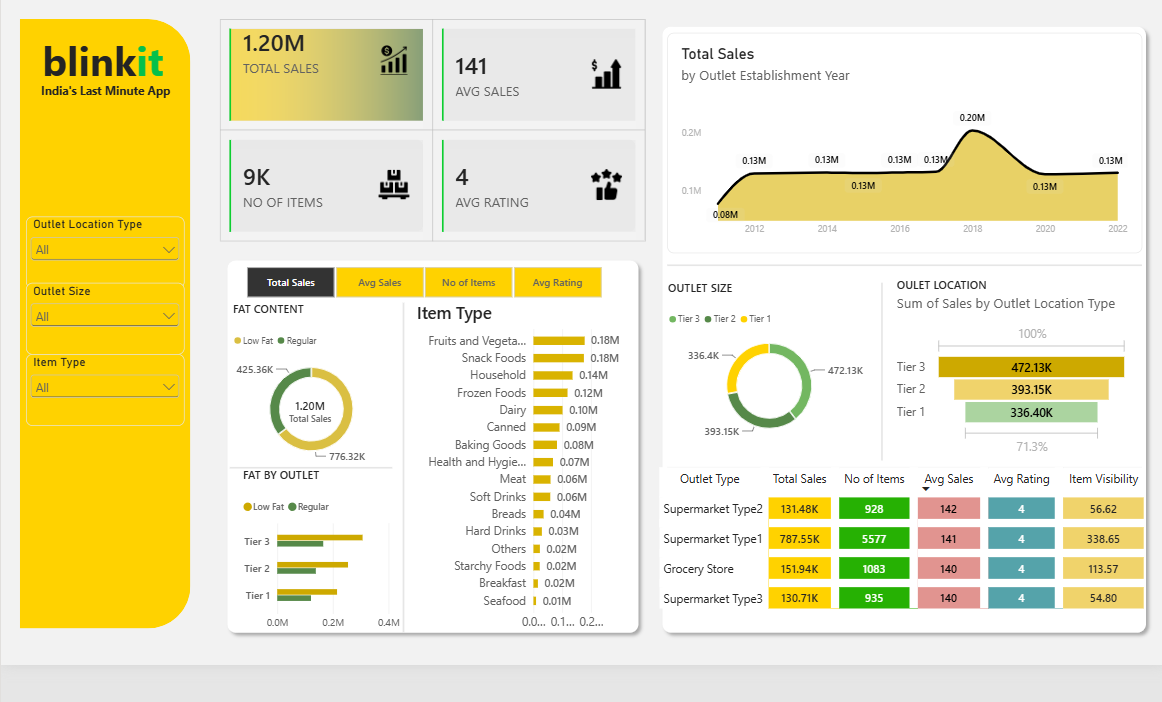

What the dashboard file says about the page in this screenshot:
{"tool":"powerbi","page":{"name":"Page 1","canvas":[1400,800],"ordinal":0},"visuals":[{"type":"shape","box":[22.5,24,205.1,731.9],"z":0},{"type":"textbox","box":[49.5,40.5,279.2,76.5],"z":1000},{"type":"textbox","box":[48,100.6,280.7,33],"z":2000},{"type":"cardVisual","fields":{"Data":["BlinkIT Grocery Data.Total Sales","BlinkIT Grocery Data.Avg Sales","BlinkIT Grocery Data.No of Items","BlinkIT Grocery Data.Avg Rating"]},"box":[262.7,24,511.8,267.2],"z":3000},{"type":"shape","box":[262.7,304.7,511.8,465.3],"z":4000},{"type":"donutChart","title":"FAT CONTENT","fields":{"Category":["BlinkIT Grocery Data.Item Fat Content"],"Y":["BlinkIT Grocery Data.Total Sales"]},"box":[262.7,348.2,220,230],"z":5000},{"type":"slicer","fields":{"Values":["Metrics.Metrics"]},"box":[274.7,319.7,465,40],"z":6000},{"type":"cardVisual","fields":{"Data":["BlinkIT Grocery Data.Total Sales"]},"box":[325.7,453.3,91.6,84],"z":7000},{"type":"clusteredBarChart","title":"FAT BY OUTLET","fields":{"Category":["BlinkIT Grocery Data.Outlet Location Type"],"Series":["BlinkIT Grocery Data.Item Fat Content"],"Y":["BlinkIT Grocery Data.Total Sales"]},"box":[274.7,547.8,220.6,230],"z":7001},{"type":"shape","box":[274.7,547.8,195.1,30],"z":7002},{"type":"shape","box":[456.3,364.7,54,396.2],"z":7003},{"type":"barChart","title":"Item Type ","fields":{"Category":["BlinkIT Grocery Data.Item Type"],"Y":["BlinkIT Grocery Data.Total Sales"]},"box":[483.3,348.2,291.2,430.7],"z":7004},{"type":"shape","box":[785,24,598.8,745.9],"z":7005},{"type":"lineChart","fields":{"Category":["BlinkIT Grocery Data.Outlet Establishment Year"],"Y":["BlinkIT Grocery Data.Total Sales"]},"box":[800,40,570,265],"z":7006},{"type":"shape","box":[800,305,570,30],"z":7007},{"type":"funnel","title":"OULET LOCATION","fields":{"Category":["BlinkIT Grocery Data.Outlet Location Type"],"Y":["Sum(BlinkIT Grocery Data.Sales)"]},"box":[1060,320,310,243.3],"z":7009},{"type":"donutChart","title":"OUTLET SIZE","fields":{"Category":["BlinkIT Grocery Data.Outlet Location Type","BlinkIT Grocery Data.Item Fat Content"],"Y":["BlinkIT Grocery Data.Total Sales"]},"box":[785,323.3,275,225],"z":7010},{"type":"shape","box":[1031.7,340,53.3,213.3],"z":7011},{"type":"shape","box":[800,548.3,570,30],"z":7012},{"type":"pivotTable","fields":{"Rows":["BlinkIT Grocery Data.Outlet Type"],"Values":["BlinkIT Grocery Data.Total Sales","BlinkIT Grocery Data.No of Items","BlinkIT Grocery Data.Avg Sales","BlinkIT Grocery Data.Avg Rating","Sum(BlinkIT Grocery Data.Item Visibility)"]},"box":[775,548.3,620,251.7],"z":7013},{"type":"slicer","fields":{"Values":["BlinkIT Grocery Data.Outlet Location Type"]},"box":[30,261.7,190,86.7],"z":7014},{"type":"slicer","fields":{"Values":["BlinkIT Grocery Data.Outlet Size"]},"box":[30,340,190,86.7],"z":7015},{"type":"slicer","fields":{"Values":["BlinkIT Grocery Data.Item Type"]},"box":[30,426.7,190,86.7],"z":7016}]}

Visuals, with their boxes on the page's 1400x800 design canvas (x1, y1, x2, y2). These are canvas units, not pixel positions in the 1162x702 screenshot, which may show the page scaled, cropped or inside an application window:
shape: region(22, 24, 228, 756)
textbox: region(50, 40, 329, 117)
textbox: region(48, 101, 329, 134)
cardVisual - BlinkIT Grocery Data.Total Sales x BlinkIT Grocery Data.Avg Sales: region(263, 24, 774, 291)
shape: region(263, 305, 774, 770)
"FAT CONTENT" donutChart: region(263, 348, 483, 578)
slicer - Metrics.Metrics: region(275, 320, 740, 360)
cardVisual - BlinkIT Grocery Data.Total Sales: region(326, 453, 417, 537)
"FAT BY OUTLET" clusteredBarChart: region(275, 548, 495, 778)
shape: region(275, 548, 470, 578)
shape: region(456, 365, 510, 761)
"Item Type " barChart: region(483, 348, 774, 779)
shape: region(785, 24, 1384, 770)
lineChart - BlinkIT Grocery Data.Outlet Establishment Year x BlinkIT Grocery Data.Total Sales: region(800, 40, 1370, 305)
shape: region(800, 305, 1370, 335)
"OULET LOCATION" funnel: region(1060, 320, 1370, 563)
"OUTLET SIZE" donutChart: region(785, 323, 1060, 548)
shape: region(1032, 340, 1085, 553)
shape: region(800, 548, 1370, 578)
pivotTable - BlinkIT Grocery Data.Outlet Type x BlinkIT Grocery Data.Total Sales: region(775, 548, 1395, 800)
slicer - BlinkIT Grocery Data.Outlet Location Type: region(30, 262, 220, 348)
slicer - BlinkIT Grocery Data.Outlet Size: region(30, 340, 220, 427)
slicer - BlinkIT Grocery Data.Item Type: region(30, 427, 220, 513)
